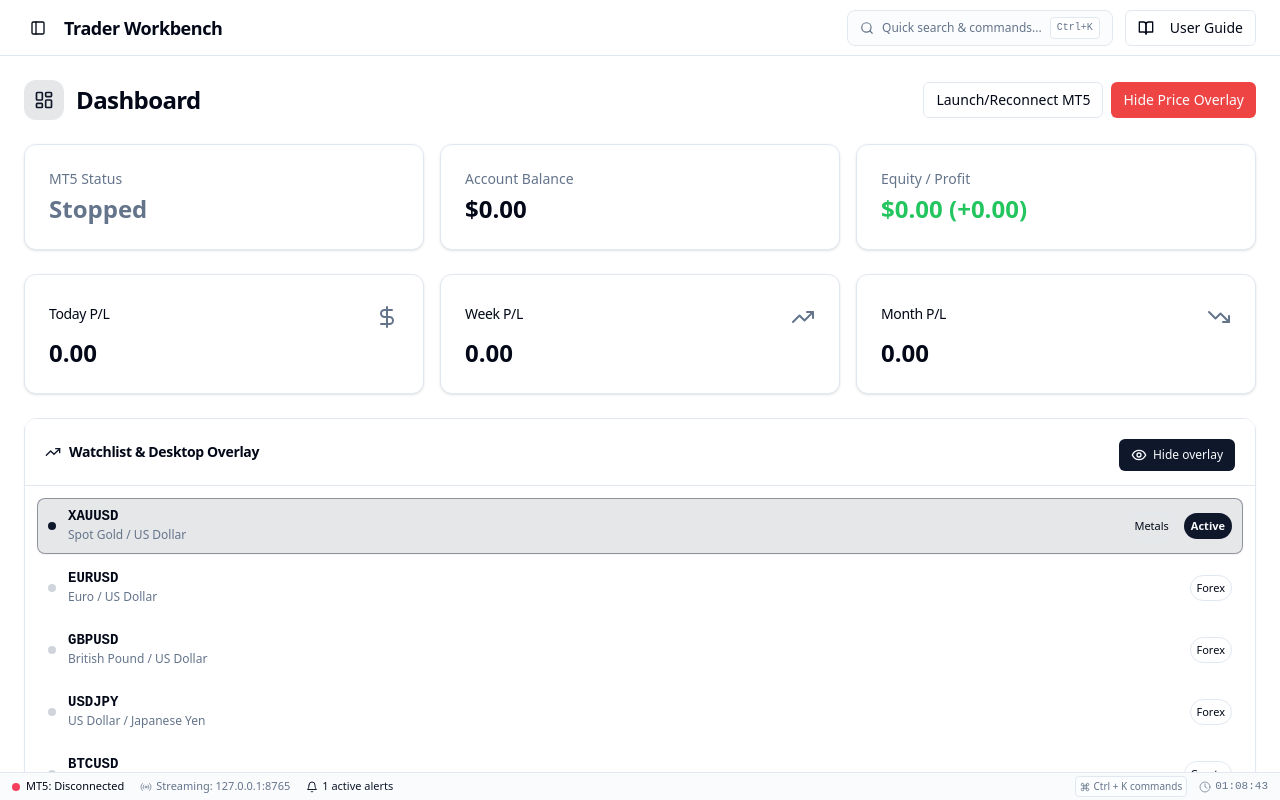
Dashboard Page › renders shadcn sidebar navigation labels after expanding the menu
The width and height of the screenshot is (1280, 800).
Click the button named "toggle sidebar".
click(38, 28)  # box [24,14,52,42]
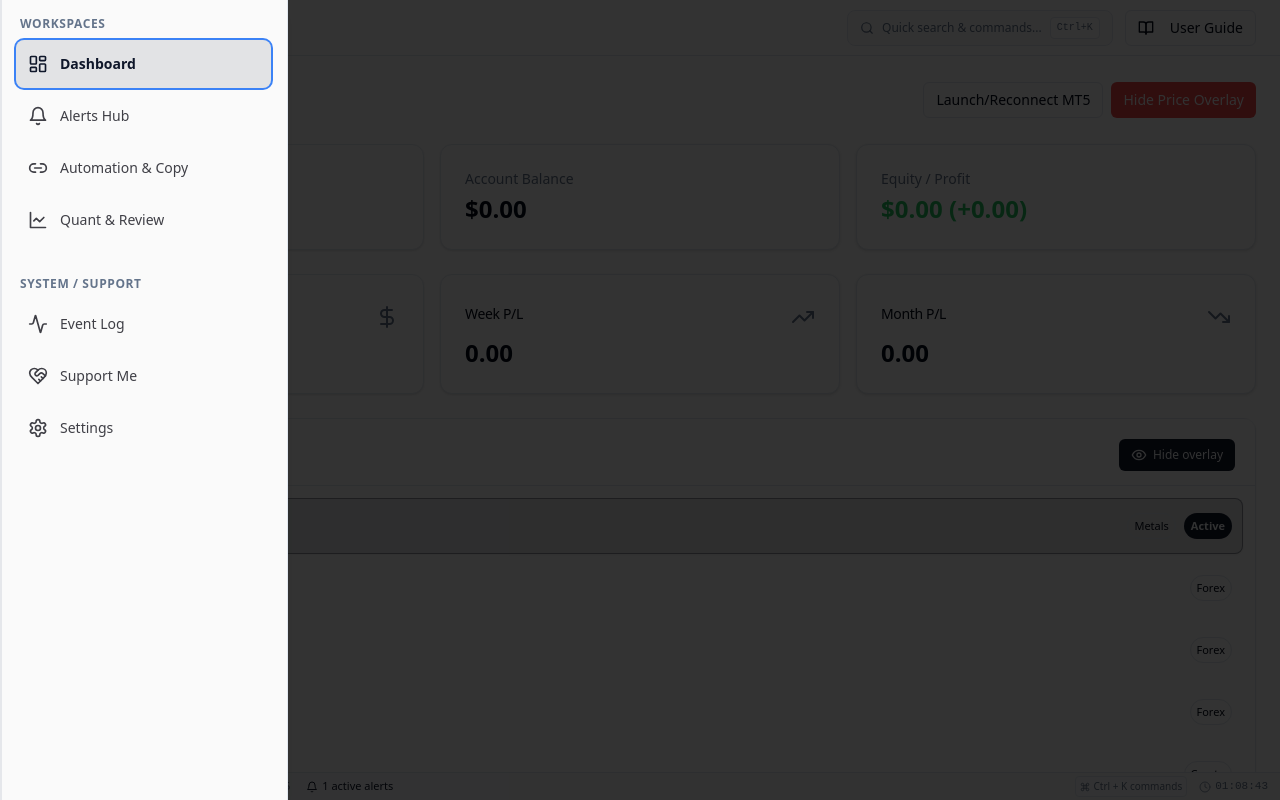
Now the dialog is shown, box [0,0,288,799]
Now the button "Dashboard" is shown, box [16,40,271,88]
Now the button "Alerts Hub" is shown, box [16,92,271,140]
